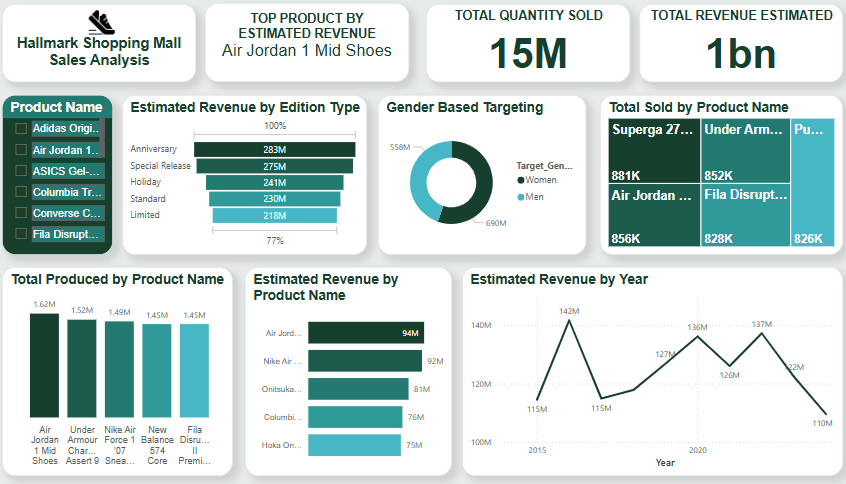

The page's visual inventory and layout, read from the dashboard file:
{"tool":"powerbi","page":{"name":"MAIN BOARD","canvas":[1280,720],"ordinal":0},"visuals":[{"type":"columnChart","title":"Total Produced by Product Name","fields":{"Category":["sneakers.Product_Name"],"Y":["Sum(sneakers.Total_Produced)"]},"box":[17.6,401.1,339.4,307.1],"z":0},{"type":"funnel","title":"Estimated Revenue by Edition Type","fields":{"Category":["sneakers.Edition_Type"],"Y":["Sum(sneakers.Estimated_Revenue)"]},"box":[194,148.4,360,235.1],"z":1000},{"type":"donutChart","title":"Gender Based Targeting","fields":{"Category":["sneakers.Target_Gender"],"Y":["Sum(sneakers.Estimated_Revenue)"]},"box":[570.1,148.4,305.6,235.1],"z":2000},{"type":"treemap","title":"Total Sold by Product Name","fields":{"Group":["sneakers.Product_Name"],"Values":["Sum(sneakers.Total_Sold)"]},"box":[896.3,148.4,357.1,235.1],"z":3000},{"type":"lineChart","title":"Estimated Revenue by Year","fields":{"Category":["sneakers.Year"],"Y":["Sum(sneakers.Estimated_Revenue)"]},"box":[693.6,401.1,559.8,307.1],"z":4000},{"type":"slicer","title":"Product Name","fields":{"Values":["sneakers.Product_Name"]},"box":[17.6,148.4,163.1,235.1],"z":4001},{"type":"card","title":"TOTAL REVENUE ESTIMATED","fields":{"Values":["Sum(sneakers.Estimated_Revenue)"]},"box":[953.6,14.7,299.8,114.6],"z":4002},{"type":"card","title":"TOTAL QUANTITY SOLD","fields":{"Values":["Sum(sneakers.Total_Sold)"]},"box":[640.7,14.7,299.8,114.6],"z":4003},{"type":"textbox","box":[17.6,14.7,285.1,114.6],"z":4004},{"type":"image","box":[135.2,14.7,58.8,54.4],"z":4005},{"type":"barChart","title":"Estimated Revenue by Product Name","fields":{"Category":["sneakers.Product_Name"],"Y":["Sum(sneakers.Estimated_Revenue)"]},"box":[374.6,401.5,304,307.4],"z":4006},{"type":"textbox","box":[315.9,13.2,299.8,116.1],"z":4007}]}

Visuals, with their boxes in screenshot pixels (x1, y1, x2, y2), scaled from the page's 1280x720 canvas onto the 846x484 screenshot:
"Total Produced by Product Name" columnChart: [x1=12, y1=270, x2=236, y2=476]
"Estimated Revenue by Edition Type" funnel: [x1=128, y1=100, x2=366, y2=258]
"Gender Based Targeting" donutChart: [x1=377, y1=100, x2=579, y2=258]
"Total Sold by Product Name" treemap: [x1=592, y1=100, x2=828, y2=258]
"Estimated Revenue by Year" lineChart: [x1=458, y1=270, x2=828, y2=476]
"Product Name" slicer: [x1=12, y1=100, x2=119, y2=258]
"TOTAL REVENUE ESTIMATED" card: [x1=630, y1=10, x2=828, y2=87]
"TOTAL QUANTITY SOLD" card: [x1=423, y1=10, x2=622, y2=87]
textbox: [x1=12, y1=10, x2=200, y2=87]
image: [x1=89, y1=10, x2=128, y2=46]
"Estimated Revenue by Product Name" barChart: [x1=248, y1=270, x2=449, y2=477]
textbox: [x1=209, y1=9, x2=407, y2=87]
